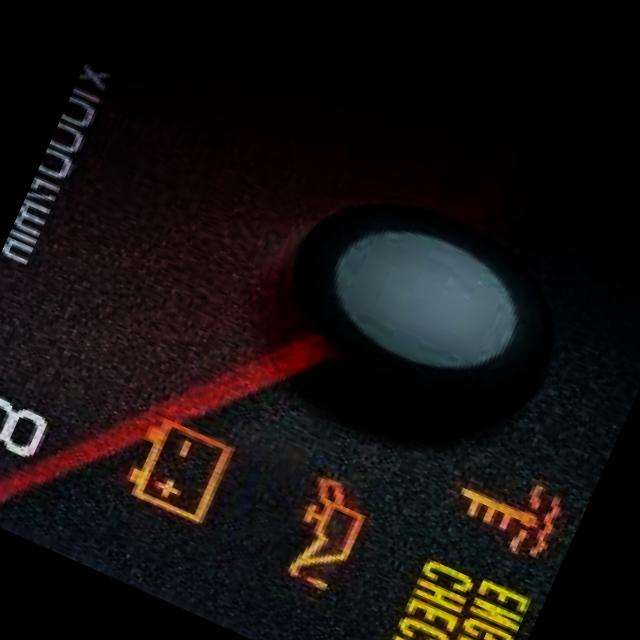kontrolka: (105, 394, 262, 544), (428, 440, 586, 584), (258, 462, 390, 610), (373, 546, 539, 640)
